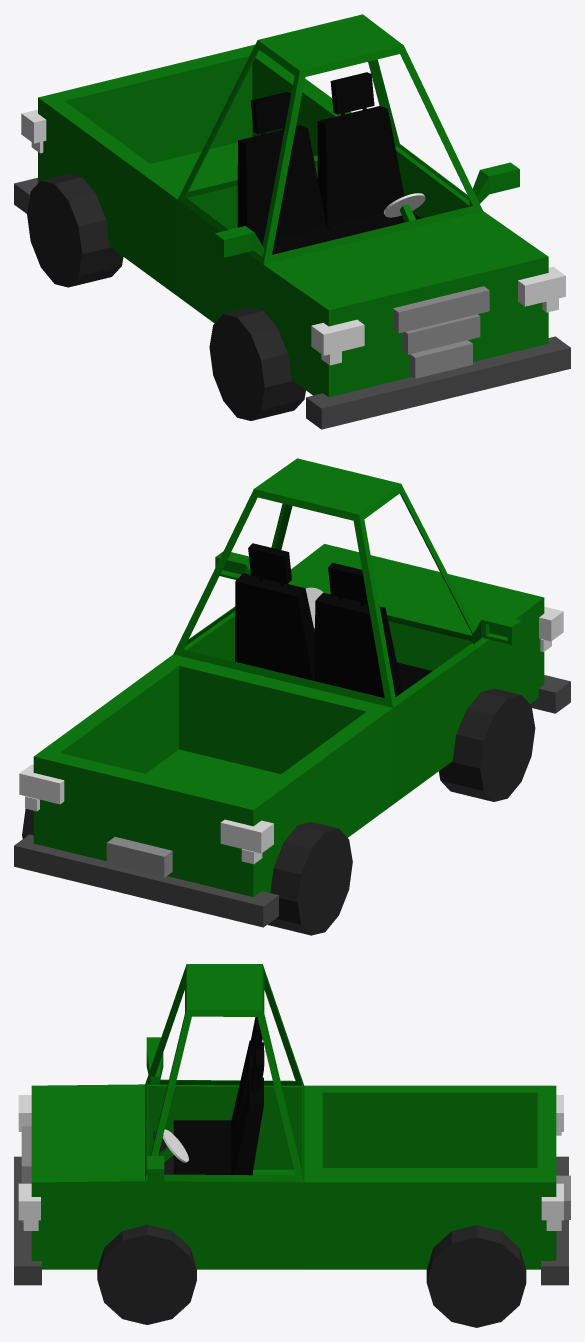
File: Truck.fbx
3 renders of one model, top to bottom at view 1: azimuth 30°, elevation 25°; view 2: azimuth 150°, elevation 25°; view 3: azimuth 270°, elevation 25°, orthographic. The views are drawn at different scales.
Visible parts, largest first — view 1: CarBody, CarTop, SeatLeft, SeatRight, Cube.006, WheelBackRight, WheelFrontRight, Cube.029, Cube.010, Cube.009, Cube.007, Cube.028 (+5 smaller); view 2: CarBody, CarTop, SeatLeft, SeatRight, WheelFrontRight, Cube.030, WheelBackRight, Cube.031, Cube.033, Cube.035, MirrorRight, Cube.006 (+2 smaller); view 3: CarBody, CarTop, WheelBackLeft, WheelFrontLeft, SeatLeft, SeatRight, Cube.006, Cube.030, Cube.028, Cube.035, Cube.029, MirrorRight (+2 smaller).
Part boxes in pixels (<box>): CarBody: <box>38,44,548,396</box>; CarTop: <box>178,14,482,264</box>; SeatLeft: <box>317,72,421,237</box>; SeatRight: <box>237,91,341,254</box>; Cube.006: <box>306,336,570,429</box>; WheelBackRight: <box>27,174,123,287</box>; WheelFrontRight: <box>209,307,305,420</box>; Cube.029: <box>393,286,489,333</box>; Cube.010: <box>402,314,480,354</box>; Cube.009: <box>409,340,472,378</box>; Cube.007: <box>311,319,364,355</box>; Cube.028: <box>518,266,565,306</box>; CarBody: <box>33,544,544,896</box>; CarTop: <box>173,458,483,707</box>; SeatLeft: <box>235,543,314,680</box>; SeatRight: <box>315,562,432,697</box>; WheelFrontRight: <box>439,688,535,801</box>; Cube.030: <box>14,834,278,927</box>; WheelBackRight: <box>267,822,352,935</box>; Cube.031: <box>106,837,172,877</box>; Cube.033: <box>220,819,273,853</box>; Cube.035: <box>19,764,64,804</box>; MirrorRight: <box>471,613,521,644</box>; Cube.006: <box>530,675,570,713</box>; CarBody: <box>31,1084,556,1269</box>; CarTop: <box>145,964,304,1182</box>; WheelBackLeft: <box>426,1225,526,1327</box>; WheelFrontLeft: <box>97,1224,196,1324</box>; SeatLeft: <box>173,1049,264,1175</box>; SeatRight: <box>173,1017,263,1155</box>; Cube.006: <box>14,1156,41,1285</box>; Cube.030: <box>541,1156,568,1285</box>; Cube.028: <box>18,1183,40,1220</box>; Cube.035: <box>541,1183,563,1220</box>; Cube.029: <box>21,1126,31,1183</box>; MirrorRight: <box>146,1037,163,1084</box>.
Size of the model in its own units: 545 by 545 by 983.
